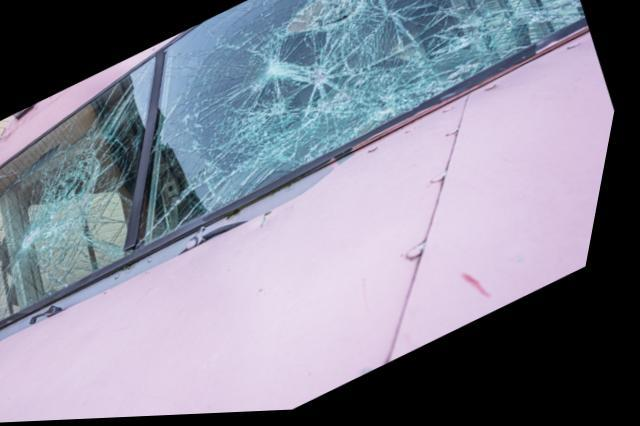glass shatter: (151, 0, 587, 253), (0, 55, 157, 328)
